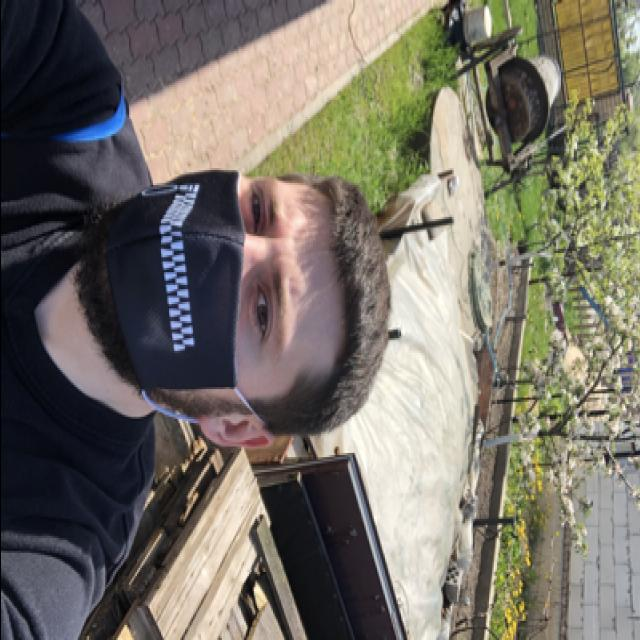with_mask: (76, 170, 310, 396)
